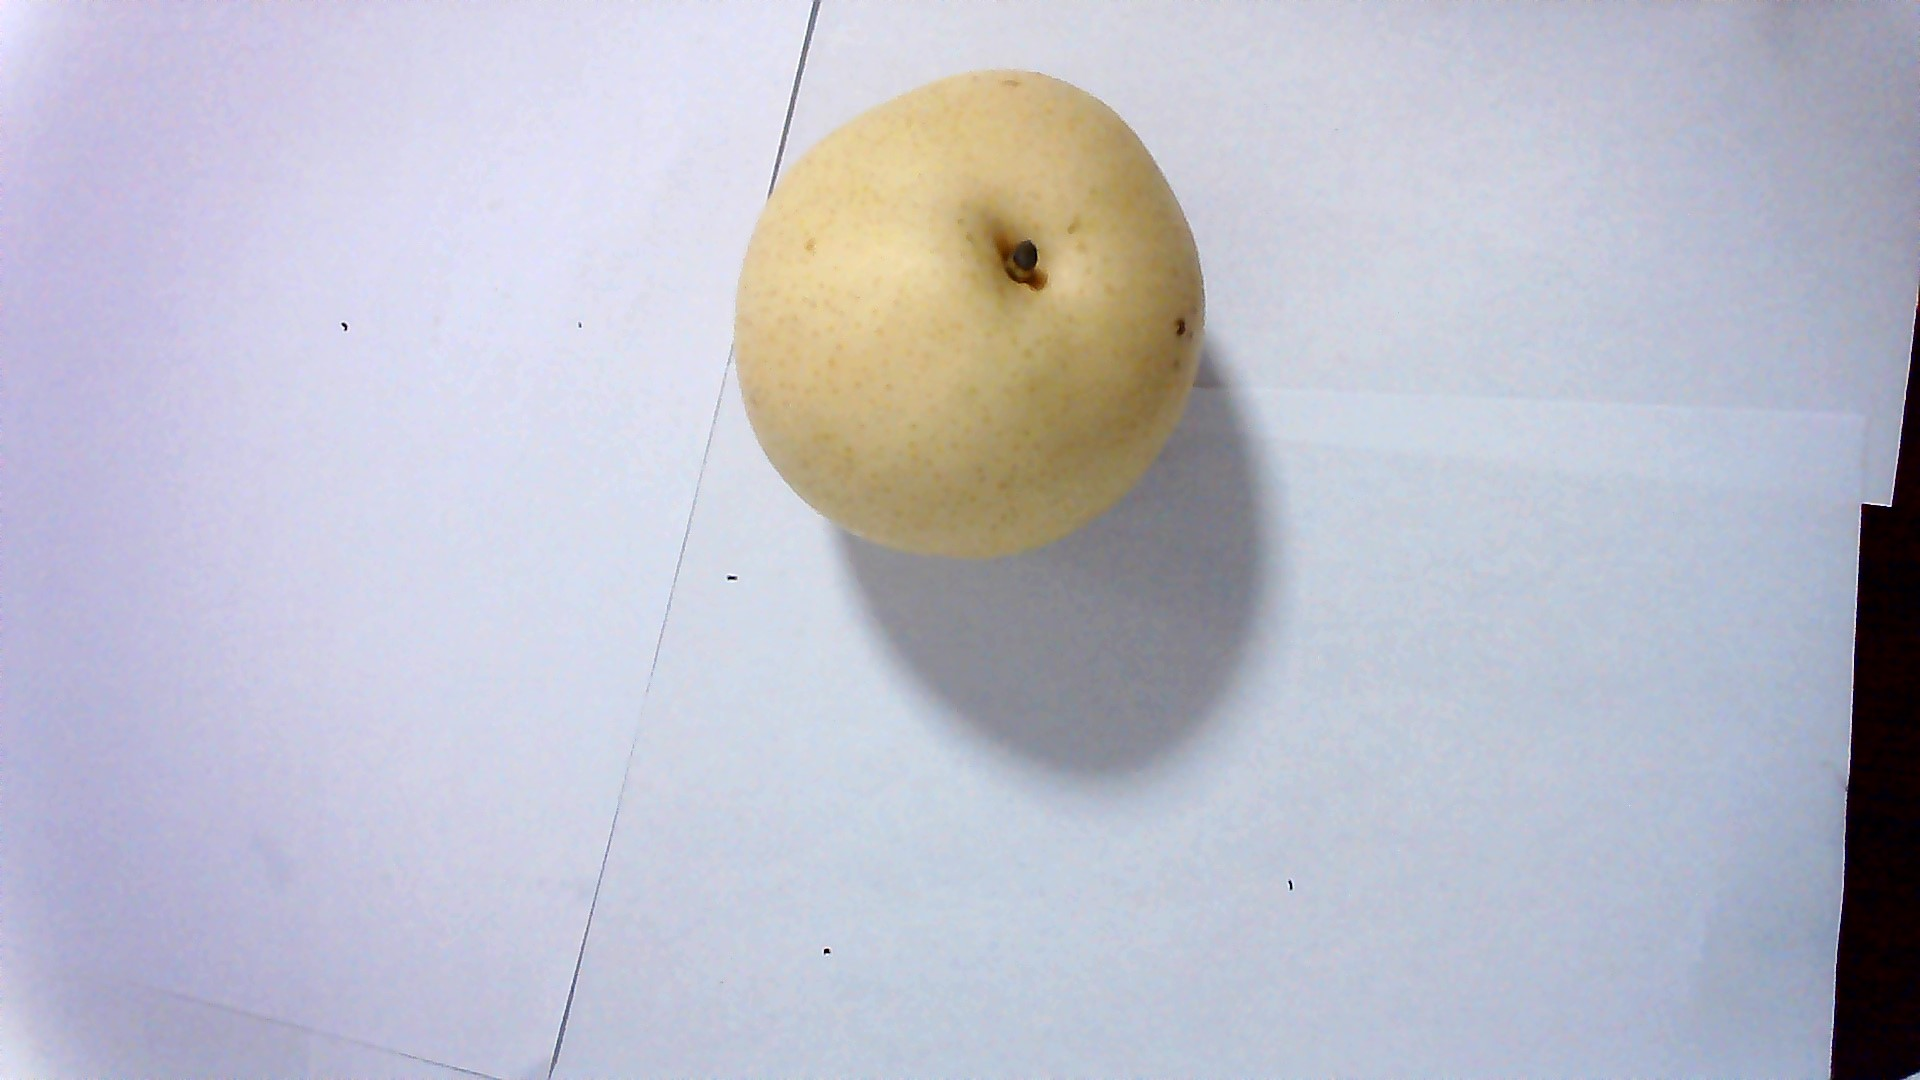pear: (745, 100, 1199, 564)
